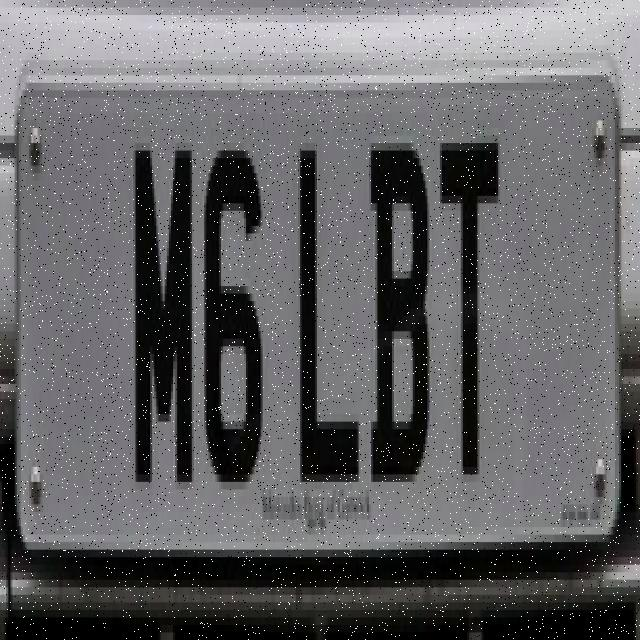licenseplate: (12, 67, 627, 566)
